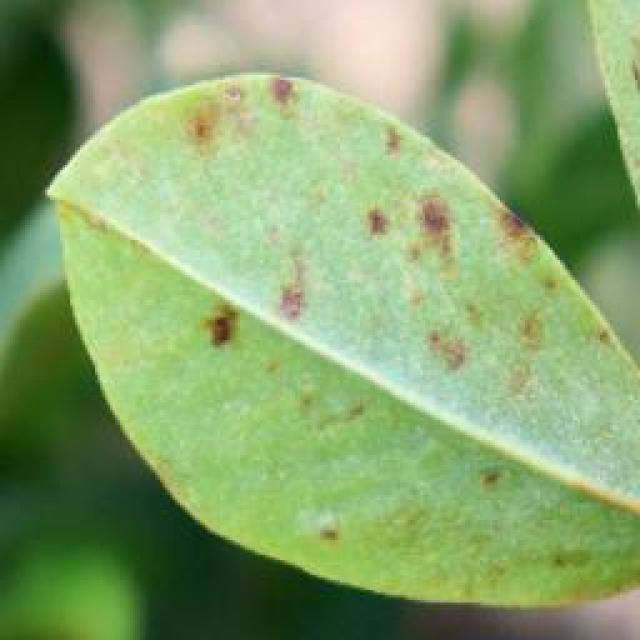Whitefly: (116, 67, 598, 640)
